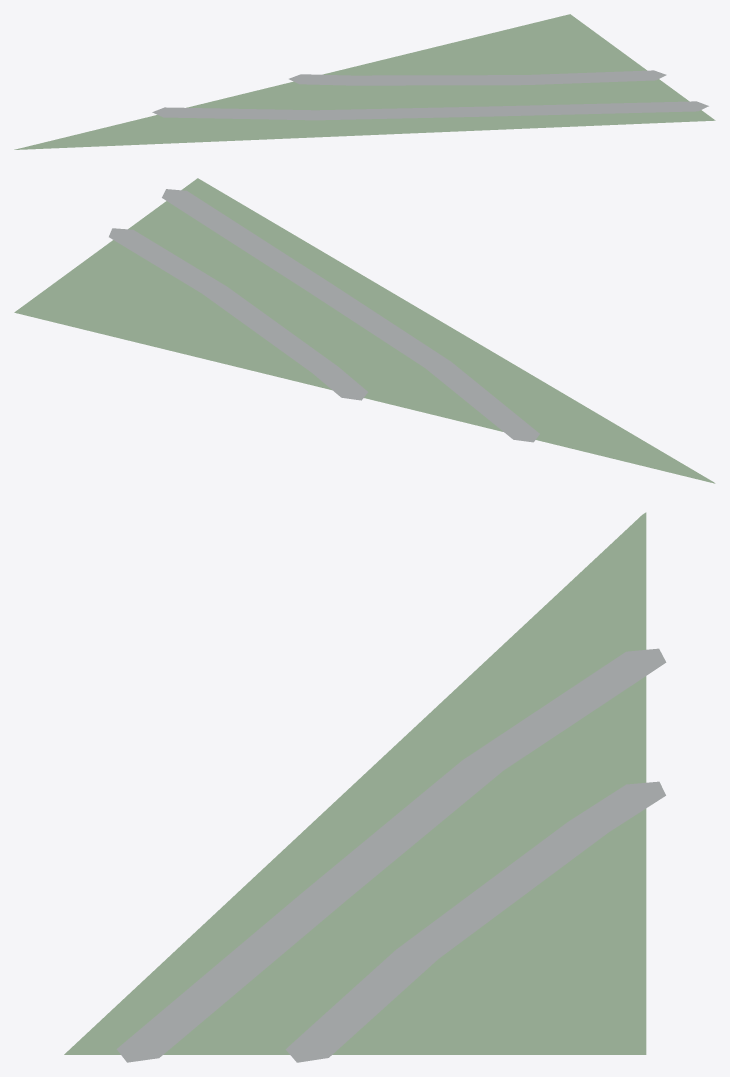
Rendered from -8_-2-known-fine.glb.
3 renders of one model, top to bottom at view 1: azimuth 30°, elevation 25°; view 2: azimuth 150°, elevation 25°; view 3: azimuth 270°, elevation 25°, orthographic. The views are drawn at different scales.
Bounding box in the file's own units: 82.02 × 0.1 × 37.85.
